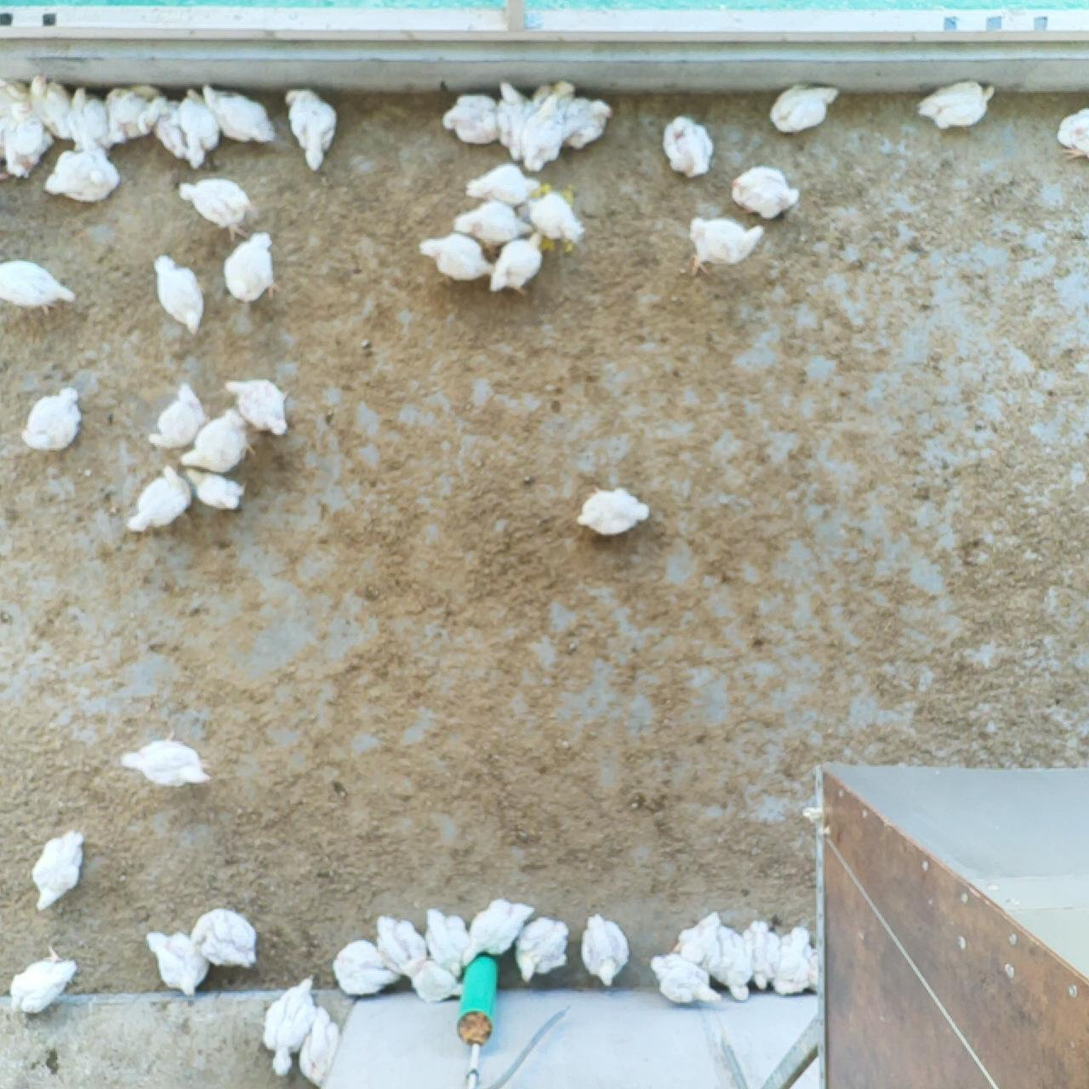chicken: (43, 137, 135, 208), (119, 728, 214, 794), (261, 973, 318, 1078), (6, 942, 77, 1016), (648, 111, 715, 186), (185, 901, 258, 969), (704, 929, 761, 1016), (220, 373, 293, 439), (140, 927, 208, 997), (122, 466, 193, 533), (647, 951, 724, 1012), (222, 235, 282, 312), (153, 254, 210, 334), (915, 79, 995, 136), (282, 86, 335, 172), (687, 214, 765, 272), (32, 829, 90, 906), (329, 939, 398, 1003), (771, 76, 841, 139), (182, 178, 256, 237), (148, 382, 209, 453), (448, 197, 533, 247), (184, 409, 256, 467), (512, 915, 575, 981), (420, 909, 477, 980), (567, 487, 651, 535), (1, 259, 75, 313), (465, 163, 553, 208), (727, 165, 799, 220), (26, 385, 82, 453), (298, 1000, 345, 1081), (491, 231, 550, 294), (424, 234, 493, 285), (556, 86, 610, 151), (440, 98, 504, 152), (584, 912, 632, 984), (531, 189, 584, 254), (374, 911, 428, 973), (676, 912, 727, 977), (207, 91, 273, 140), (470, 899, 532, 949), (65, 91, 115, 152), (778, 927, 821, 997), (520, 95, 565, 159), (745, 920, 784, 993), (1, 123, 50, 180), (498, 79, 534, 156), (403, 961, 465, 1003), (189, 470, 251, 510), (105, 86, 151, 137), (1053, 99, 1089, 164), (150, 96, 188, 157), (30, 78, 72, 133), (185, 94, 213, 164), (6, 80, 41, 123)
